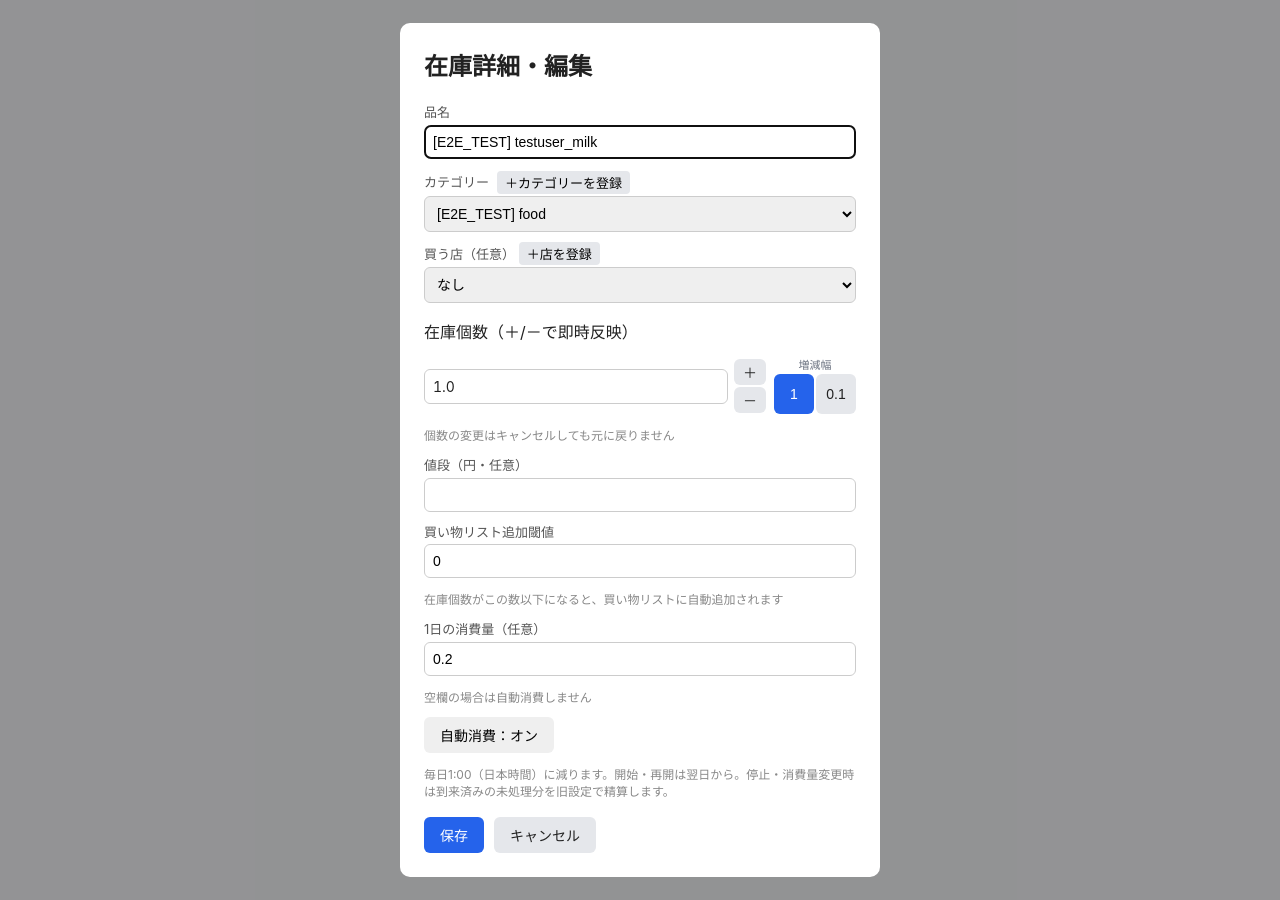
Test: 編集の初期値・空欄化・保存失敗時の入力保持
Clear the number field labelled "1日の消費量（任意）" at x=640, y=659, box top-left (424, 642), bottom-right (856, 676)
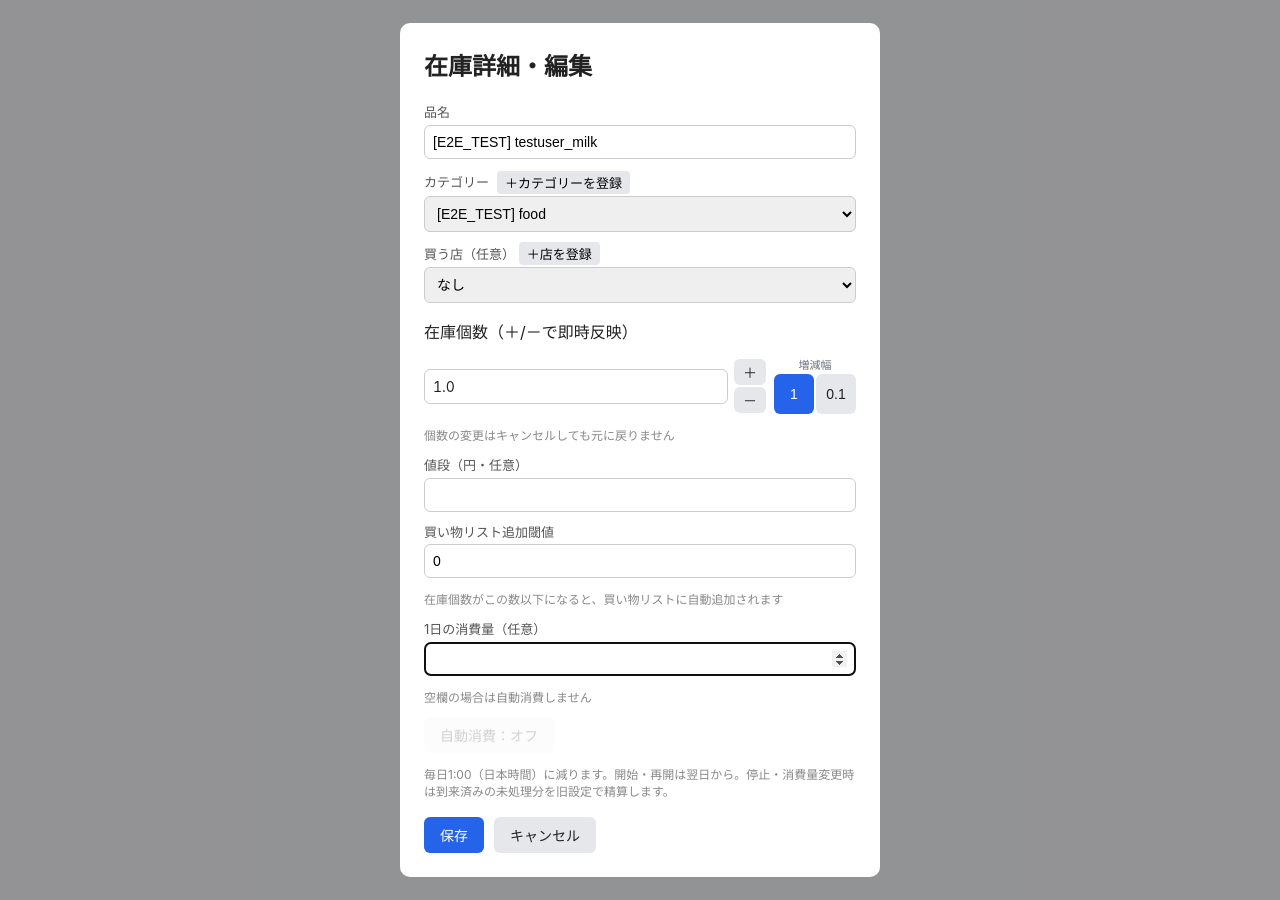
Now the switch is disabled, box top-left (424, 717), bottom-right (554, 753)
Click the button "保存" at x=454, y=835, box top-left (424, 817), bottom-right (484, 853)
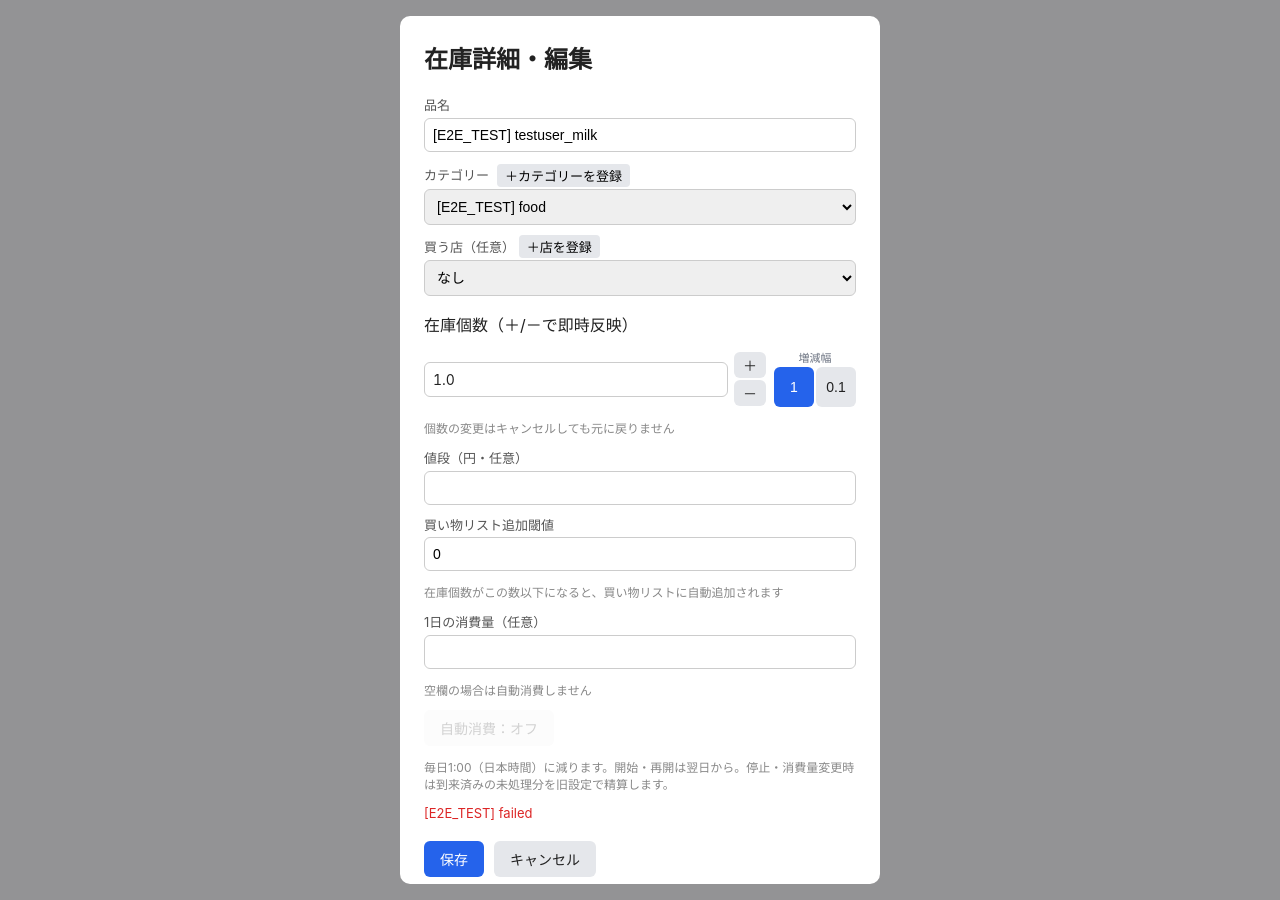
Expected: the dialog is shown, top-left (400, 16), bottom-right (880, 884)
Now the message reads "[E2E_TEST] failed", box top-left (424, 805), bottom-right (532, 821)
